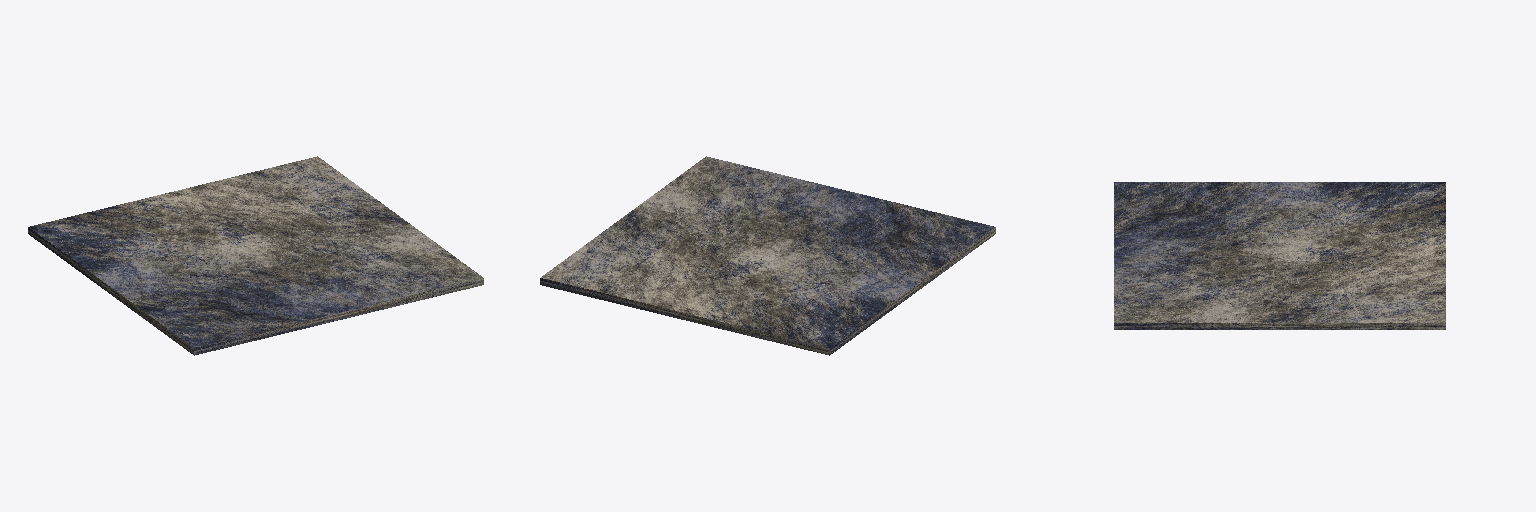
3 renders of one model, left to right at view 1: azimuth 30°, elevation 25°; view 2: azimuth 150°, elevation 25°; view 3: azimuth 270°, elevation 25°, orthographic.
Visible parts, largest first — view 1: Box001; view 2: Box001; view 3: Box001.
Part boxes in pixels (left/top/right/bottom): Box001: left=28, top=156, right=483, bottom=355; Box001: left=540, top=156, right=995, bottom=355; Box001: left=1114, top=182, right=1445, bottom=329.
Size of the model in its own units: 3693 by 89.32 by 3666.
Materials: 1 (1 with a texture image).